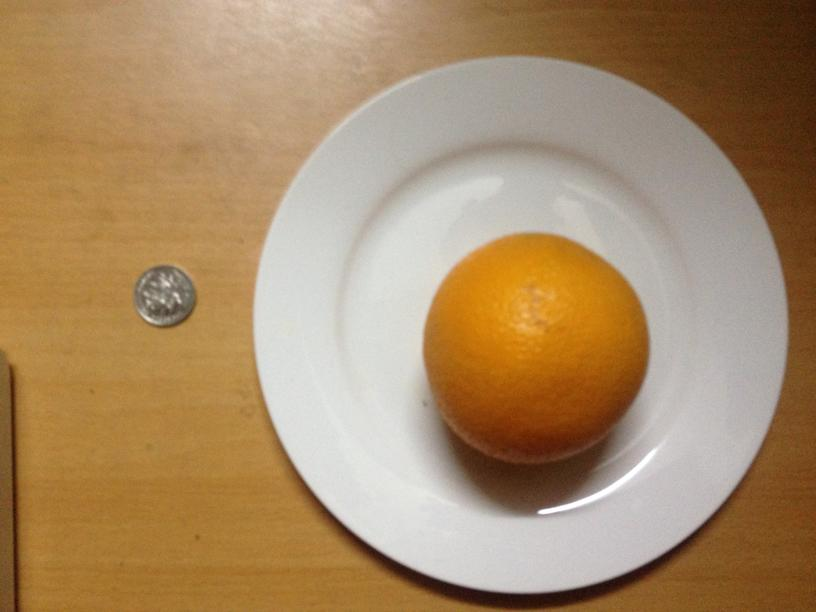coin: (131, 263, 195, 327)
orange: (423, 235, 647, 465)
